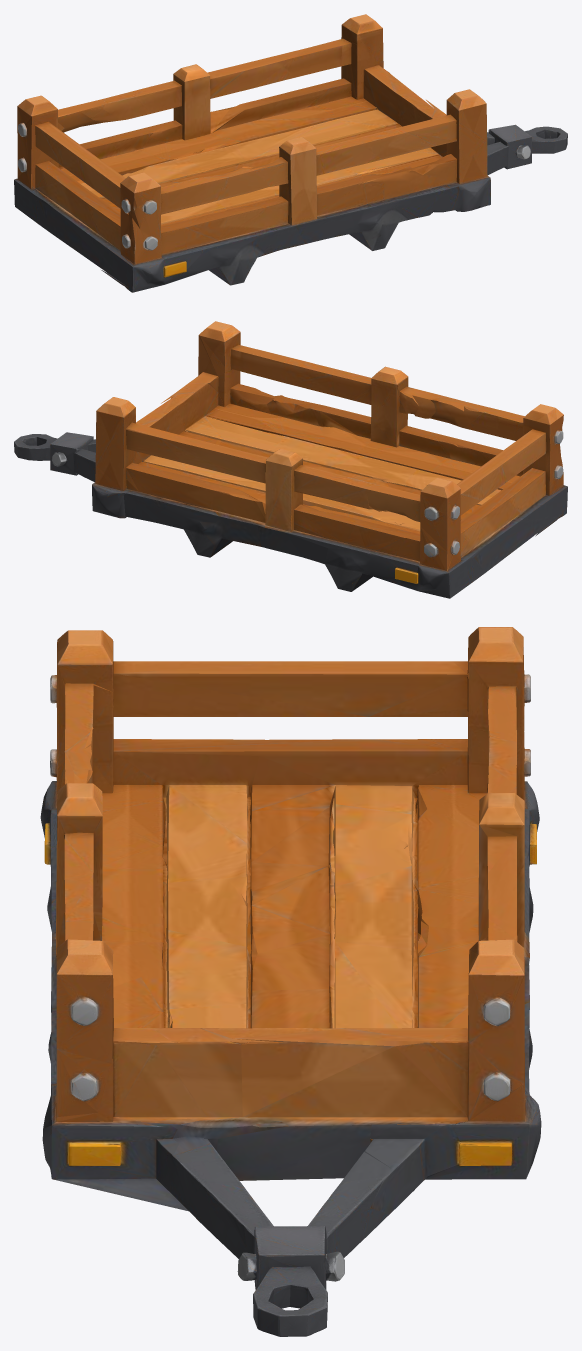
File: remolque_carga.glb
3 renders of one model, top to bottom at view 1: azimuth 30°, elevation 25°; view 2: azimuth 150°, elevation 25°; view 3: azimuth 270°, elevation 25°, orthographic. The views are drawn at different scales.
Bounding box in the file's own units: 1.9 × 0.4756 × 0.8401.
1 material, 1 textured.
